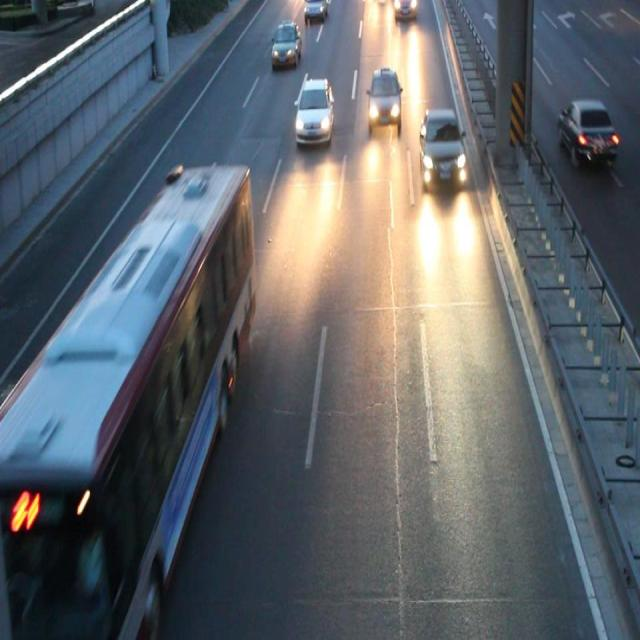car: (1, 368, 21, 588), (558, 101, 615, 161), (419, 111, 464, 184), (296, 78, 332, 142), (368, 68, 400, 126), (270, 22, 300, 66), (392, 1, 417, 20), (304, 1, 326, 20)
van: (1, 166, 254, 640)
